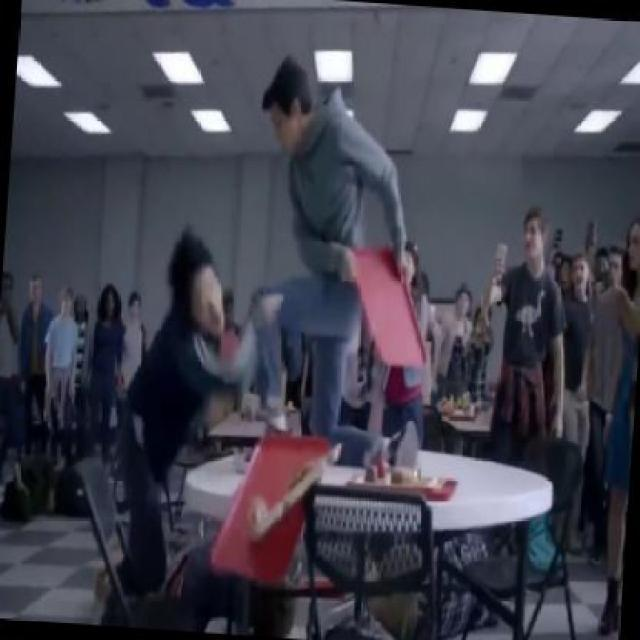non-fight: (232, 49, 445, 458), (116, 214, 222, 562), (476, 186, 566, 434), (592, 192, 638, 634), (362, 196, 450, 419), (15, 250, 88, 416)
